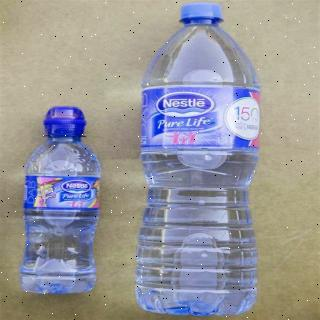Plastic-bottle: (125, 1, 267, 315), (19, 107, 109, 295)
